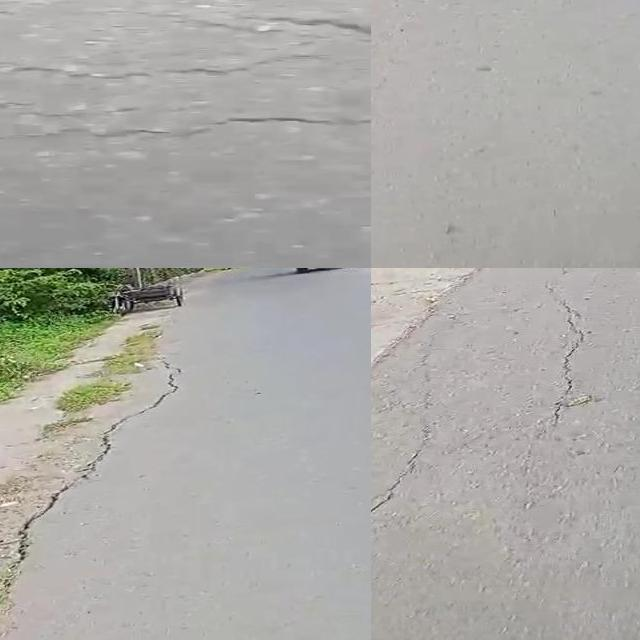Memanjang: (0, 344, 197, 640), (535, 268, 592, 445), (371, 421, 446, 543)
